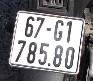0: (65, 45, 76, 69)
1: (66, 20, 73, 44)
5: (38, 41, 50, 66)
6: (24, 15, 35, 38)
7: (34, 15, 45, 40), (15, 39, 26, 64)
8: (53, 44, 64, 68), (27, 41, 38, 64)
G: (53, 18, 65, 42)
